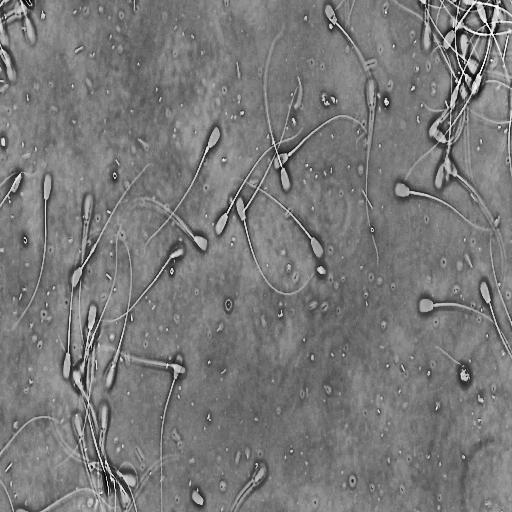loose-head: (190, 487, 205, 507)
loose-tail: (241, 76, 302, 214), (0, 413, 62, 460)
normal: (67, 161, 156, 289), (142, 122, 223, 258), (214, 122, 307, 238), (3, 164, 55, 340), (234, 194, 317, 299), (444, 158, 507, 295), (228, 174, 327, 261), (322, 0, 379, 146), (93, 242, 185, 325), (61, 225, 107, 383), (269, 109, 377, 176), (109, 193, 210, 257), (393, 181, 510, 235), (416, 294, 512, 355), (263, 20, 292, 196), (419, 0, 483, 79), (103, 226, 133, 393), (160, 351, 185, 512), (426, 43, 453, 189), (90, 344, 188, 380), (77, 193, 95, 370), (479, 280, 512, 359), (471, 3, 494, 96)
proximal-droplet: (205, 145, 209, 153)
